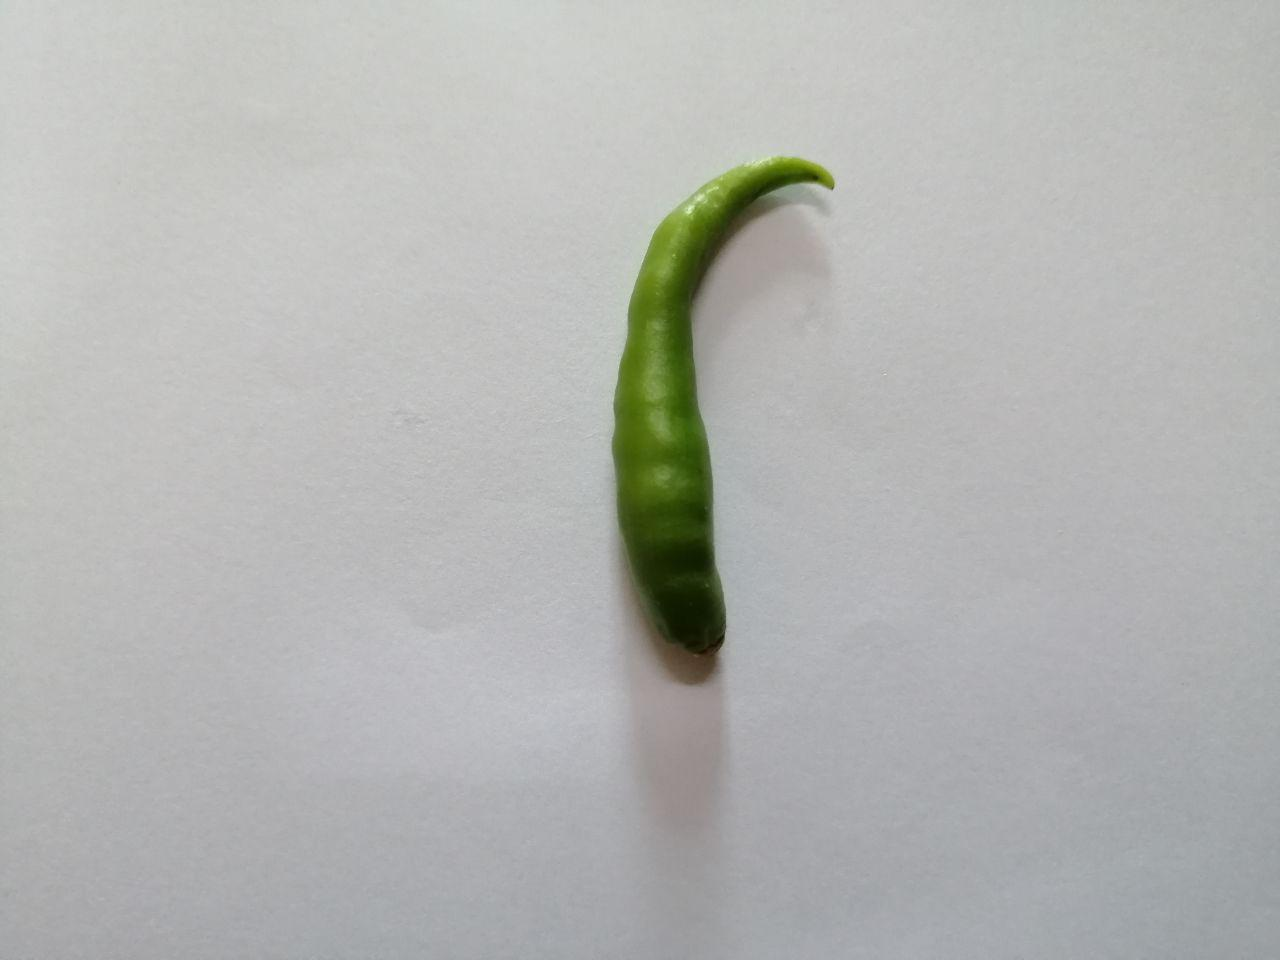lada hijau: (596, 137, 858, 672)
